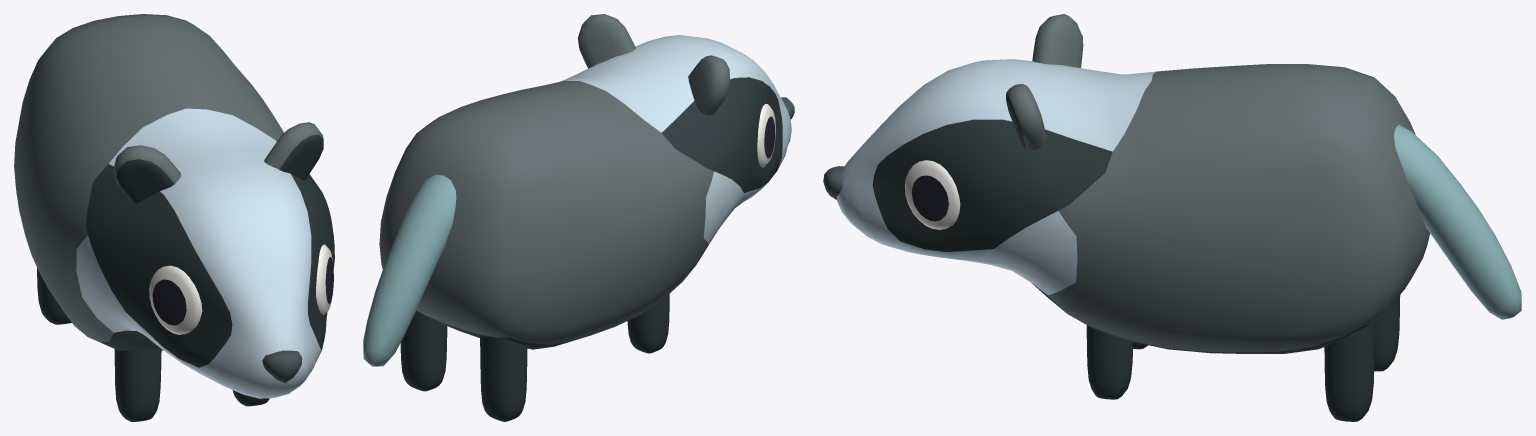
File: Badger.glb
3 views of the same model, side by side, from view 1: azimuth 30°, elevation 25°; view 2: azimuth 150°, elevation 25°; view 3: azimuth 270°, elevation 25° (orthographic). The views are drawn at different scales.
Visible parts, largest first — view 1: Badger; view 2: Badger; view 3: Badger.
Boxes of the visible parts, x1=… form: Badger: x1=14, y1=14, x2=334, y2=421; Badger: x1=363, y1=14, x2=794, y2=421; Badger: x1=823, y1=14, x2=1521, y2=421.
Bounding box in the file's own units: 1.23 × 1.41 × 2.87.
1 material, 1 textured.
